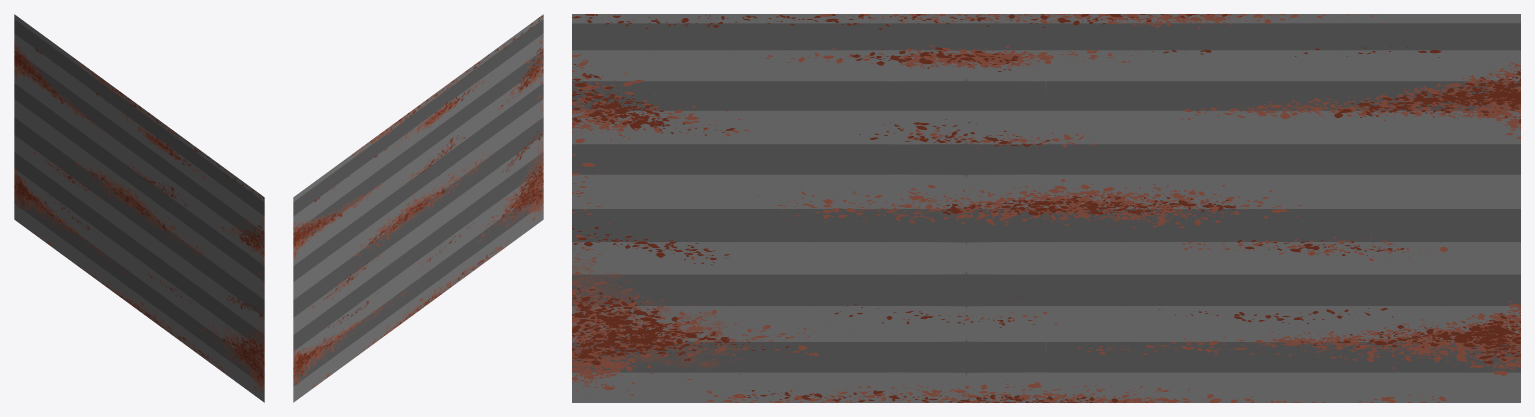
The model's file is yero.fbx.
The picture shows the model from 3 angles, left to right: view 1: azimuth 30°, elevation 25°; view 2: azimuth 150°, elevation 25°; view 3: azimuth 270°, elevation 25°; orthographic projection. The views are drawn at different scales.
Parts seen in each view (by area): view 1: Plane; view 2: Plane; view 3: Plane.
Boxes of the visible parts, x1,y1,x2,y2 form: Plane: [14, 14, 264, 402]; Plane: [293, 14, 543, 402]; Plane: [572, 14, 1520, 402].
Size of the model in its own units: 0.000224 by 349 by 772.
